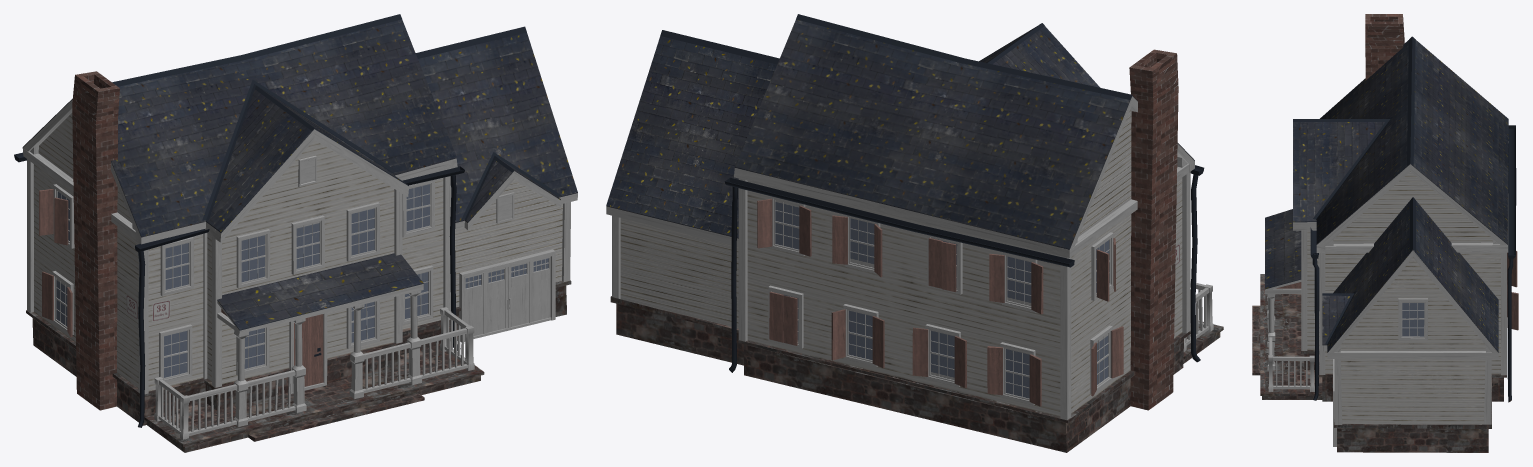
Rendered from House.fbx.
3 renders of one model, left to right at view 1: azimuth 30°, elevation 25°; view 2: azimuth 150°, elevation 25°; view 3: azimuth 270°, elevation 25°, orthographic. The views are drawn at different scales.
Parts seen in each view (by area): view 1: House; view 2: House; view 3: House.
Part boxes in pixels (x1=…): House: x1=14, y1=14, x2=577, y2=452; House: x1=606, y1=14, x2=1223, y2=452; House: x1=1252, y1=14, x2=1518, y2=452.
Size of the model in its own units: 1419 by 947 by 881.
Materials: 1 (1 with a texture image).
